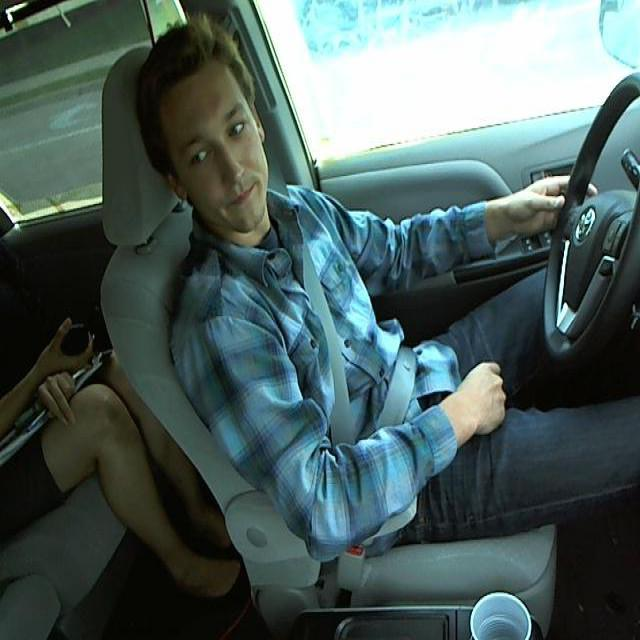seatbelt: (297, 229, 425, 448)
